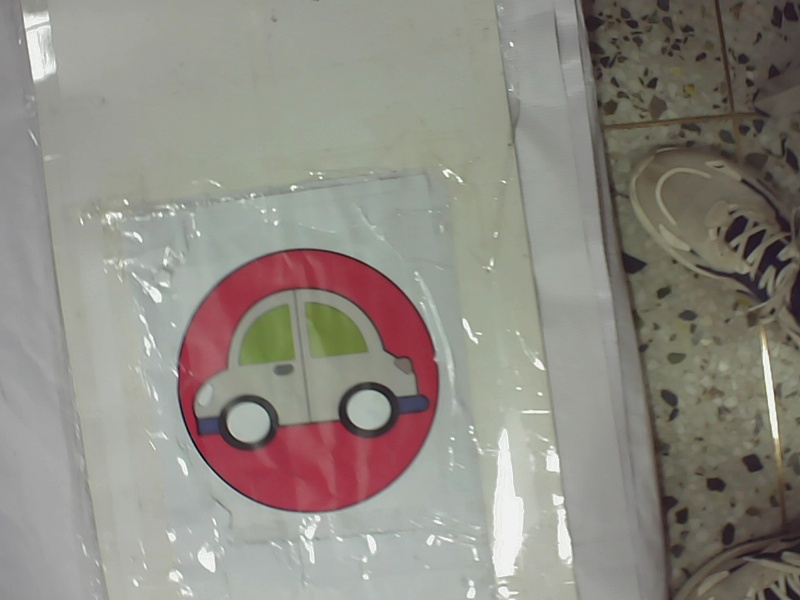areaC: (159, 247, 466, 522)
